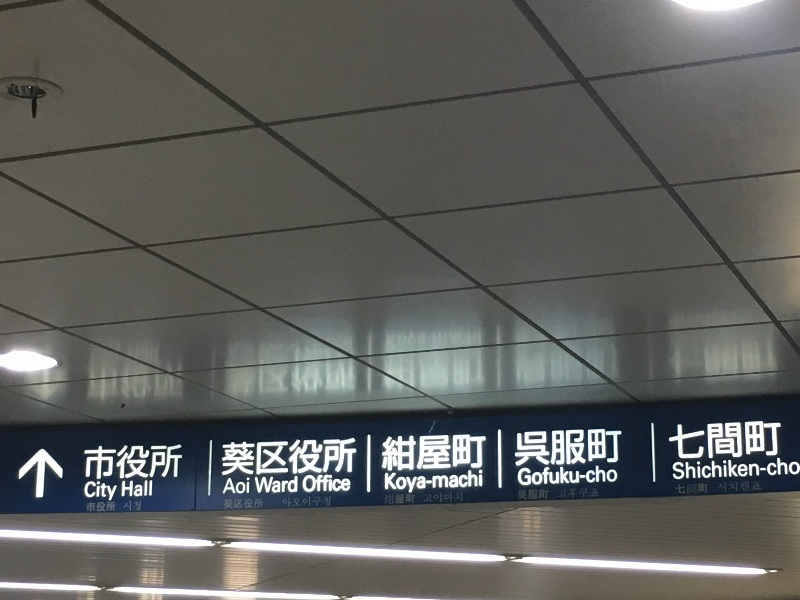text: (673, 307, 688, 387), (689, 307, 704, 387), (705, 307, 720, 387), (721, 307, 736, 387), (737, 307, 752, 387), (753, 307, 768, 387), (385, 315, 400, 390), (401, 315, 416, 390), (417, 315, 432, 390), (433, 315, 448, 390), (449, 315, 464, 390), (465, 315, 480, 390), (529, 312, 544, 387), (545, 312, 560, 387), (561, 312, 576, 387), (577, 312, 592, 387), (593, 312, 608, 387), (609, 312, 624, 387), (769, 307, 783, 387), (225, 334, 240, 401), (241, 334, 256, 401), (257, 334, 272, 401), (273, 334, 288, 401), (289, 334, 304, 401), (305, 334, 320, 401), (321, 334, 336, 401), (337, 334, 352, 401), (97, 340, 112, 401), (113, 340, 128, 401), (129, 340, 144, 401), (145, 340, 160, 401), (161, 340, 176, 401), (516, 312, 528, 387), (481, 315, 492, 390), (177, 340, 188, 401), (664, 307, 672, 387), (673, 419, 688, 461), (689, 419, 704, 461), (705, 419, 720, 461), (721, 419, 736, 461), (737, 419, 752, 461), (753, 419, 768, 461), (225, 438, 240, 477), (241, 438, 256, 477), (257, 438, 272, 477), (273, 438, 288, 477), (289, 438, 304, 477), (305, 438, 320, 477), (321, 438, 336, 477), (337, 438, 352, 477), (385, 433, 400, 472), (401, 433, 416, 472), (417, 433, 432, 472), (433, 433, 448, 472), (449, 433, 464, 472), (465, 433, 480, 472), (529, 428, 544, 467), (545, 428, 560, 467), (561, 428, 576, 467), (577, 428, 592, 467), (593, 428, 608, 467), (87, 340, 96, 401), (514, 428, 528, 467), (609, 428, 623, 467), (769, 419, 782, 461), (97, 444, 112, 479), (113, 444, 128, 479), (129, 444, 144, 479), (145, 444, 160, 479), (161, 444, 176, 479), (353, 334, 359, 401), (85, 444, 96, 479), (385, 469, 400, 494), (401, 469, 416, 494), (417, 469, 432, 494), (433, 469, 448, 494), (449, 469, 464, 494), (465, 469, 480, 494), (673, 457, 688, 481), (689, 457, 704, 481), (705, 457, 720, 481), (721, 457, 736, 481), (737, 457, 752, 481), (753, 457, 768, 481), (769, 457, 784, 481), (785, 457, 800, 481), (529, 465, 544, 487), (545, 465, 560, 487), (561, 465, 576, 487), (577, 465, 592, 487), (593, 465, 608, 487), (97, 481, 112, 501), (305, 475, 320, 494), (321, 475, 336, 494), (337, 475, 352, 494), (129, 480, 144, 498), (225, 477, 240, 495), (257, 476, 272, 494), (273, 476, 288, 494), (517, 465, 528, 487), (84, 481, 96, 501), (721, 479, 736, 494), (737, 479, 752, 494), (177, 444, 183, 479), (609, 465, 618, 487), (481, 433, 486, 472), (529, 488, 544, 501), (241, 477, 251, 495), (289, 476, 299, 494), (689, 483, 704, 495), (289, 496, 304, 508), (305, 496, 320, 508), (433, 492, 448, 504), (449, 492, 464, 504), (225, 499, 240, 510), (241, 499, 256, 510), (385, 494, 400, 505), (401, 494, 416, 505), (561, 488, 576, 499), (577, 488, 592, 499), (353, 438, 357, 477), (380, 433, 384, 472), (129, 500, 142, 512), (97, 502, 112, 512), (382, 315, 384, 390), (753, 479, 763, 494), (145, 480, 153, 498), (676, 483, 688, 495), (321, 496, 332, 508), (518, 488, 528, 501), (669, 419, 672, 461), (122, 480, 128, 498), (423, 492, 432, 504), (113, 481, 118, 501), (87, 502, 96, 512), (593, 488, 601, 499), (222, 438, 224, 477), (257, 499, 264, 510), (481, 469, 484, 494), (282, 496, 288, 508), (545, 488, 550, 501), (123, 500, 128, 512), (705, 483, 709, 495), (717, 479, 720, 494), (254, 476, 256, 494), (113, 502, 116, 512), (671, 457, 672, 481), (303, 475, 304, 494), (223, 477, 224, 495), (559, 488, 560, 499)
